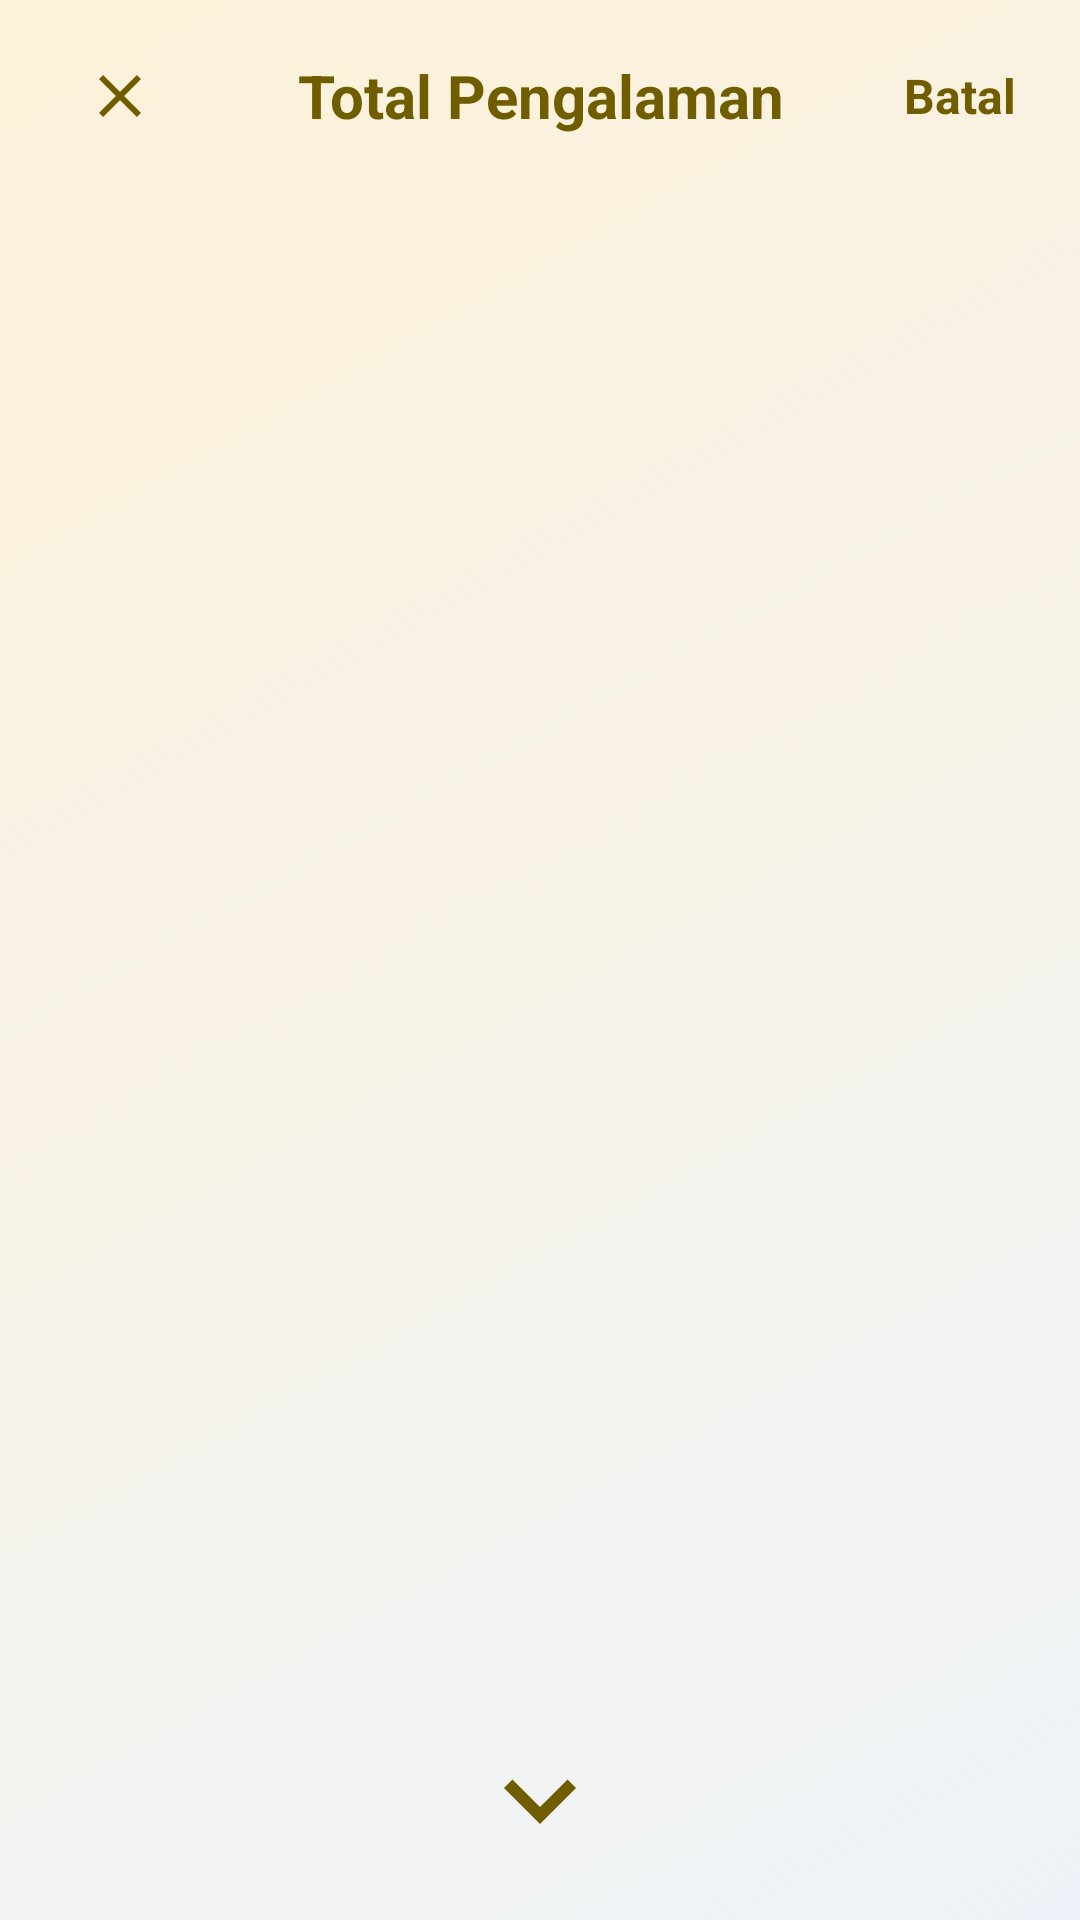

Icon click points for this 1080 × 1920 phone screenshot, format (x,y):
Close: (120,96)
Scroll Down: (540,1801)
